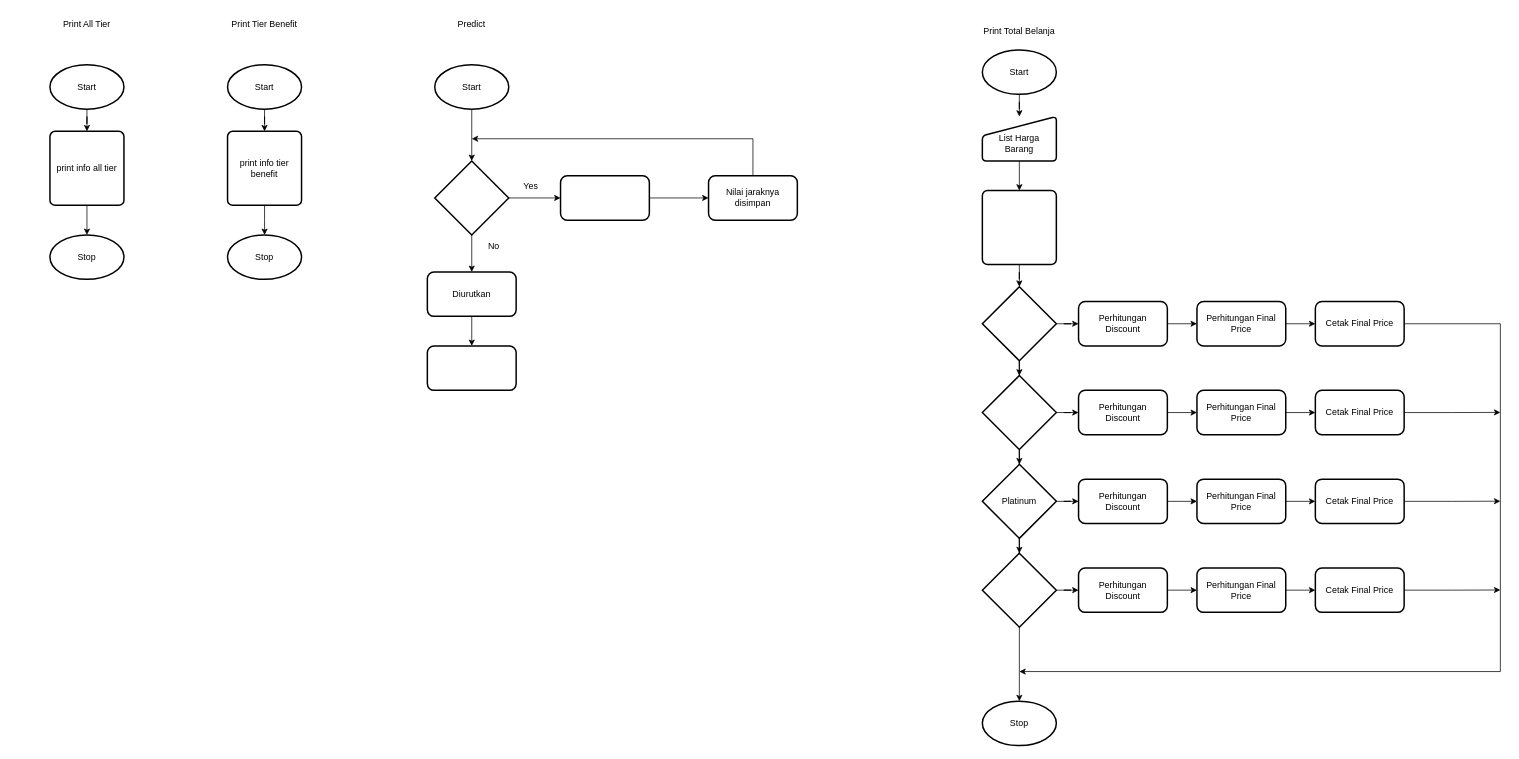
This 1519x759 diagram has some shape labels left out. Each missing label, with the centre of its shape:
"Gold" belongs at (x=1019, y=412).
"List tier belum Platinum" belongs at (x=471, y=197).
"None" belongs at (x=1019, y=590).
"Perhitungan Jarak" belongs at (x=604, y=198).
"Perhitungan Total Price" belongs at (x=1019, y=227).
"Print Tier paling dekat" belongs at (x=471, y=368).
"Silver" belongs at (x=1019, y=323).
